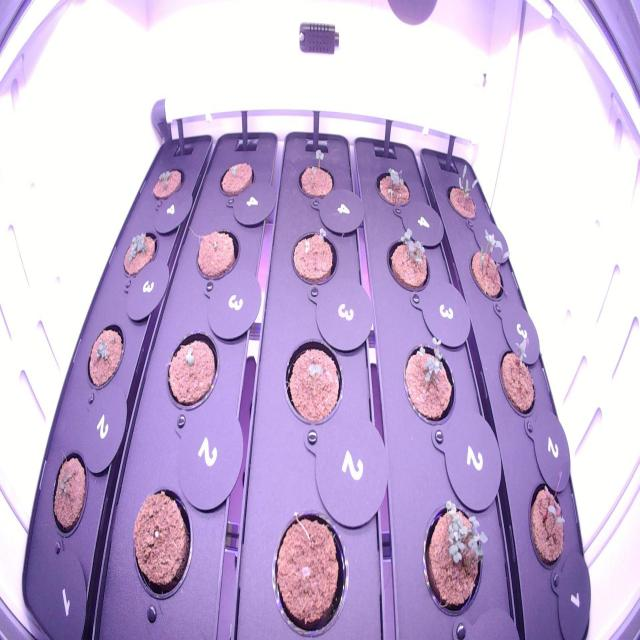germination: (262, 498, 354, 635), (417, 491, 492, 626), (396, 326, 460, 441), (281, 329, 348, 435), (160, 323, 222, 418), (526, 463, 570, 584), (494, 333, 540, 426), (382, 224, 436, 301), (465, 222, 513, 303), (83, 313, 128, 396), (287, 222, 341, 291), (442, 157, 485, 230), (294, 144, 338, 208), (117, 222, 161, 284), (369, 157, 414, 213), (148, 157, 189, 206)
pod: (126, 480, 197, 606), (48, 441, 93, 545), (188, 221, 242, 291), (213, 153, 258, 204)
